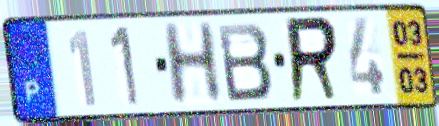1: (107, 24, 141, 110), (67, 28, 98, 109)
4: (348, 15, 388, 100)
B: (214, 20, 275, 104)
H: (159, 19, 226, 109)
R: (284, 13, 343, 106)
